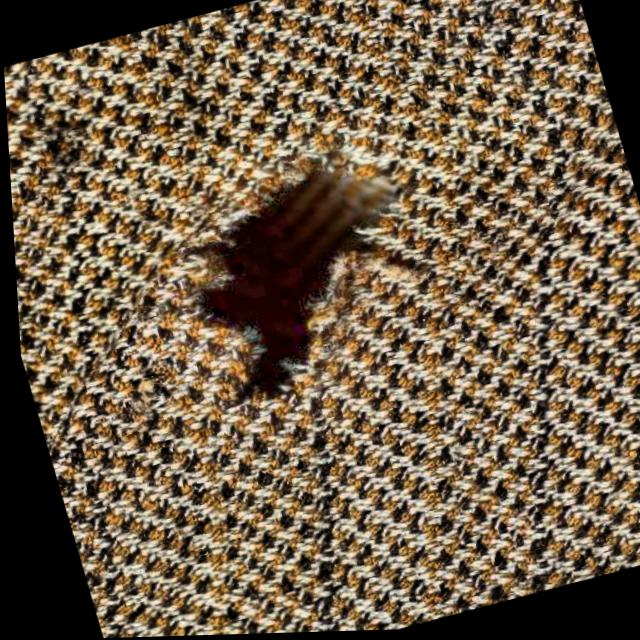Hole: (79, 91, 499, 448)
